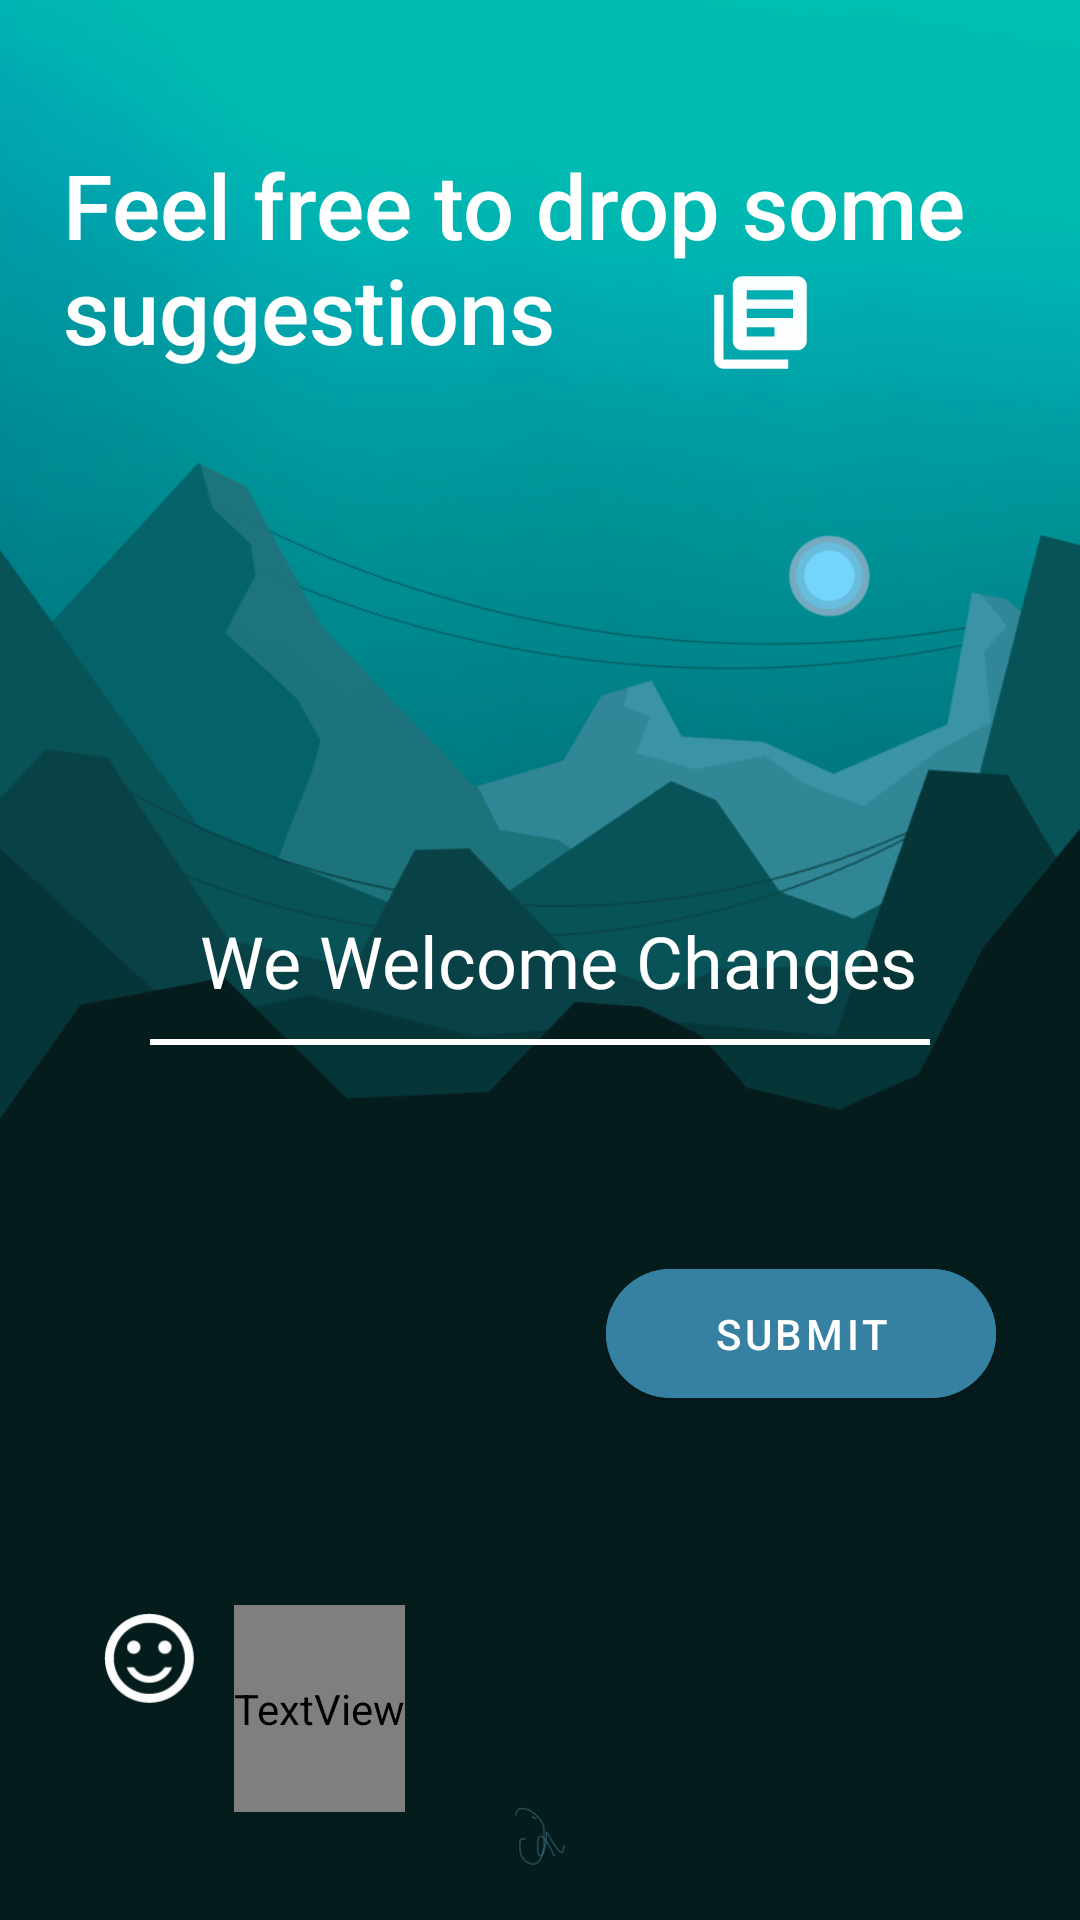

Icon bounding boxes for this 1080w x 1920h phone screenshot, format (x1, y1, x2, y2):
library books: (714, 276, 807, 369)
sentiment satisfied: (104, 1613, 194, 1703)
